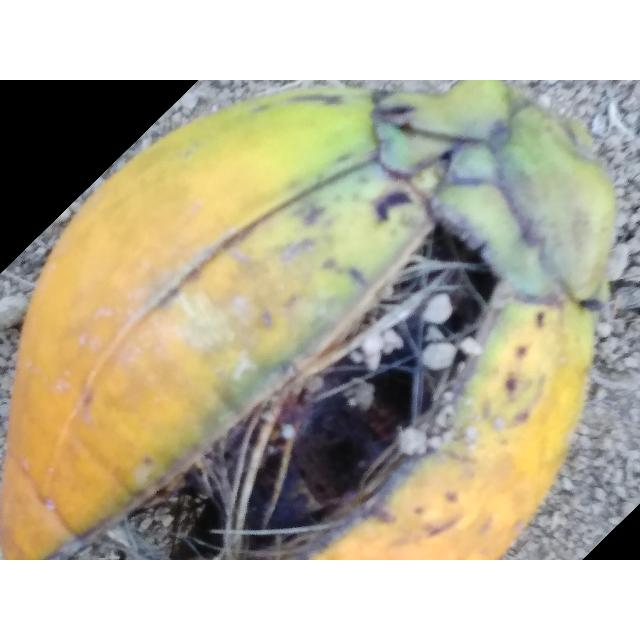damaged: (0, 80, 616, 560)
